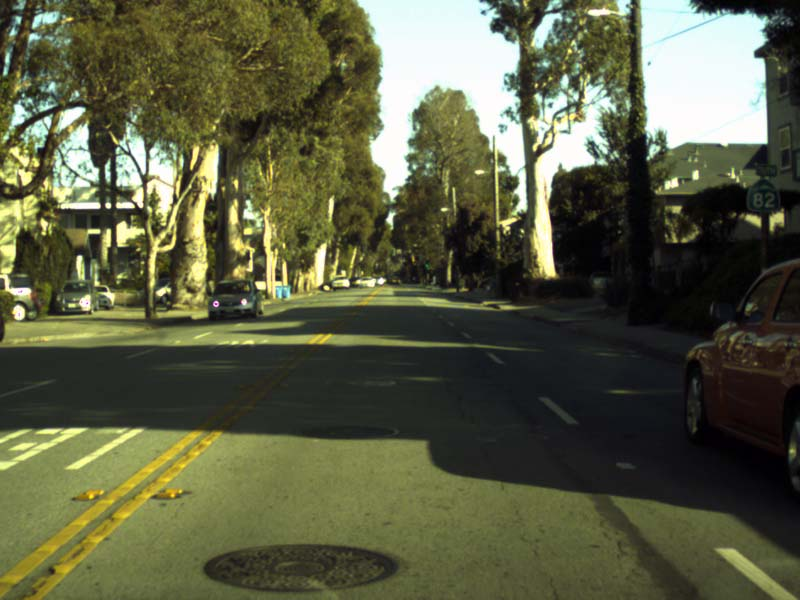Green: (423, 259, 428, 268)
